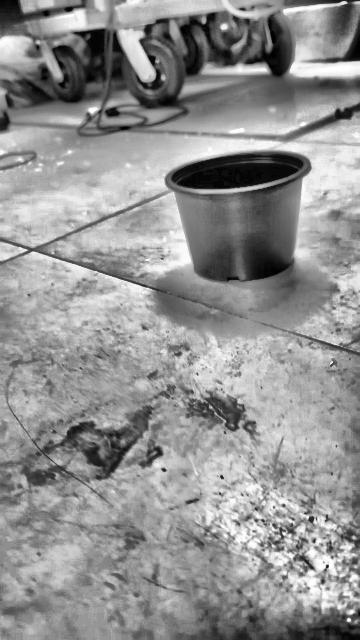pot: (165, 150, 310, 281)
